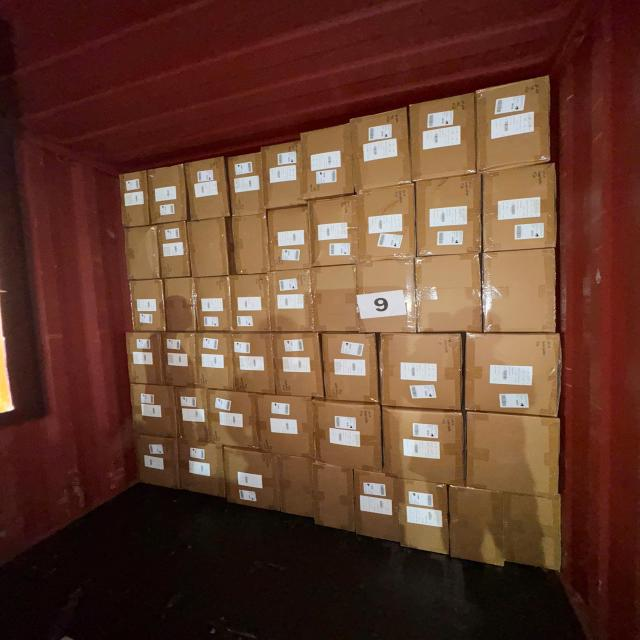Carton: (464, 412, 562, 499), (463, 330, 563, 415), (476, 74, 554, 169), (381, 330, 466, 409), (482, 165, 557, 254), (380, 408, 464, 486), (482, 250, 558, 336), (409, 96, 477, 183), (415, 175, 482, 259), (445, 482, 508, 570), (417, 255, 483, 335), (503, 491, 563, 574), (314, 400, 383, 472), (393, 475, 452, 559), (352, 111, 409, 193), (358, 259, 417, 334), (322, 330, 382, 402), (224, 449, 284, 517), (364, 182, 416, 259), (351, 468, 402, 546), (258, 396, 318, 460), (309, 118, 356, 199), (312, 196, 363, 268), (272, 332, 322, 400), (205, 391, 258, 452), (318, 460, 358, 537), (315, 262, 358, 333), (180, 438, 227, 501), (266, 141, 306, 213), (269, 205, 312, 271), (279, 455, 317, 528), (271, 269, 315, 332), (189, 158, 231, 223), (130, 385, 178, 438), (236, 333, 277, 395), (233, 273, 273, 334), (190, 220, 230, 280), (227, 153, 264, 217), (229, 214, 267, 275), (135, 435, 178, 488), (196, 332, 234, 391), (148, 169, 186, 227), (127, 332, 167, 386), (163, 333, 199, 387), (197, 276, 231, 332), (126, 223, 160, 278), (163, 278, 196, 334), (131, 278, 164, 332), (162, 220, 192, 277), (122, 172, 150, 229), (179, 389, 209, 442)
